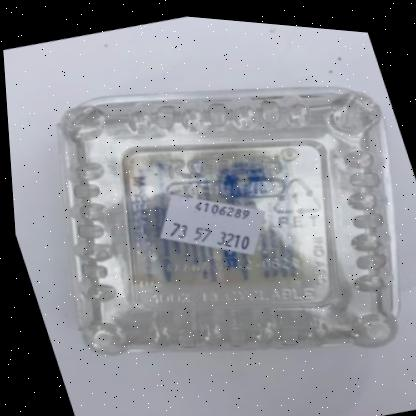Plastic: (55, 79, 396, 353)
